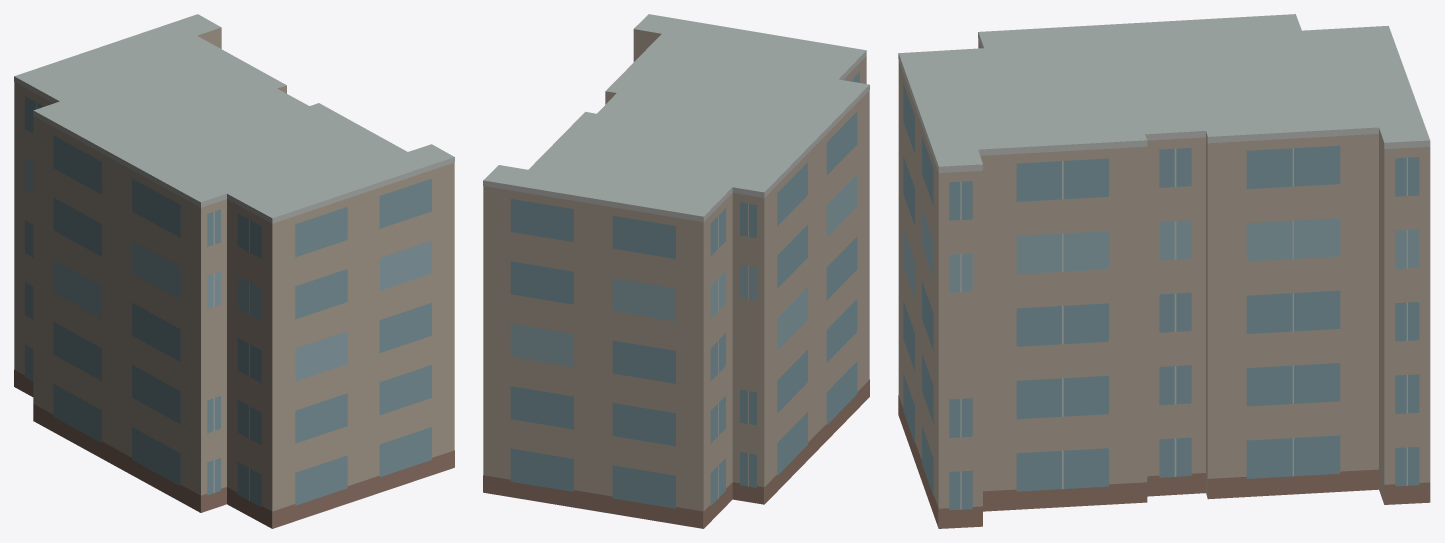
File: survey-upis-32718692.glb
3 renders of one model, left to right at view 1: azimuth 30°, elevation 25°; view 2: azimuth 150°, elevation 25°; view 3: azimuth 270°, elevation 25°, orthographic. The views are drawn at different scales.
Visible parts, largest first — view 1: survey-upis-32718692.tmp; view 2: survey-upis-32718692.tmp; view 3: survey-upis-32718692.tmp.
Part boxes in pixels (<box>): survey-upis-32718692.tmp: <box>14,14,454,528</box>; survey-upis-32718692.tmp: <box>483,14,869,528</box>; survey-upis-32718692.tmp: <box>898,14,1430,528</box>.
Size of the model in its own units: 12.58 by 13.9 by 18.51.
